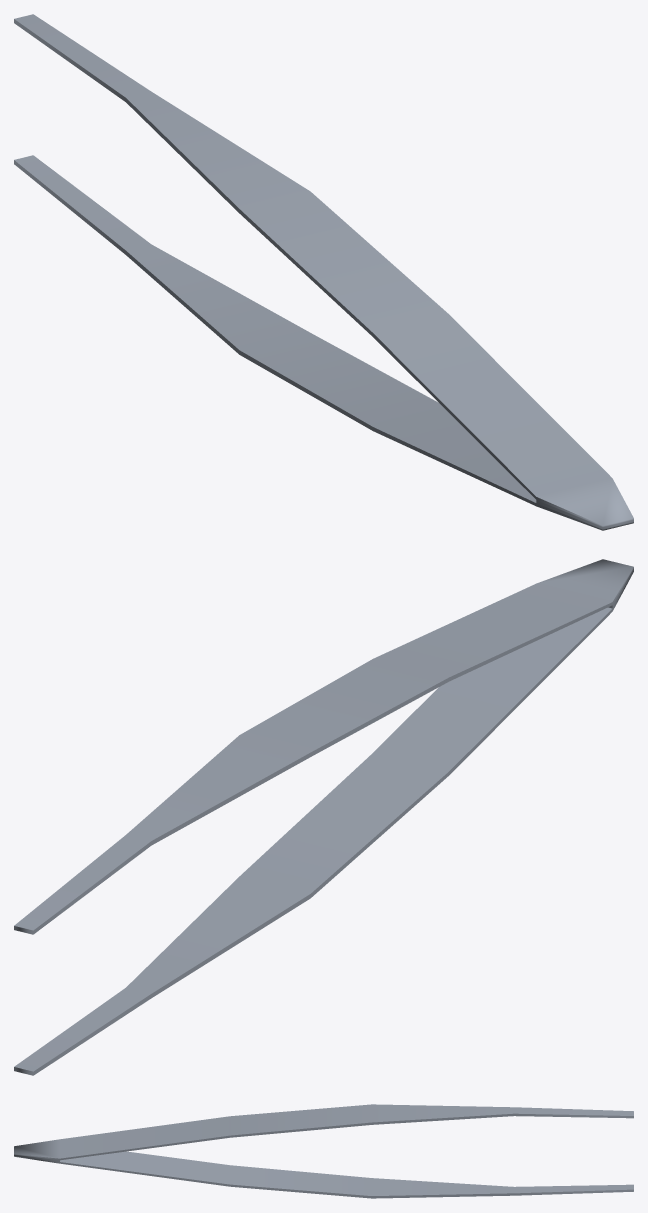
Rendered from Tweezer.glb.
3 views of the same model, one above another, from view 1: azimuth 30°, elevation 25°; view 2: azimuth 150°, elevation 25°; view 3: azimuth 270°, elevation 25° (orthographic). The views are drawn at different scales.
Visible parts, largest first — view 1: tools_tweezer.001; view 2: tools_tweezer.001; view 3: tools_tweezer.001.
Boxes of the visible parts, x1=… form: tools_tweezer.001: x1=14, y1=14, x2=633, y2=530; tools_tweezer.001: x1=14, y1=559, x2=633, y2=1075; tools_tweezer.001: x1=14, y1=1104, x2=633, y2=1198.
Bounding box in the file's own units: 2.33 × 4.61 × 31.56.
Materials: 1 (1 with a texture image).
